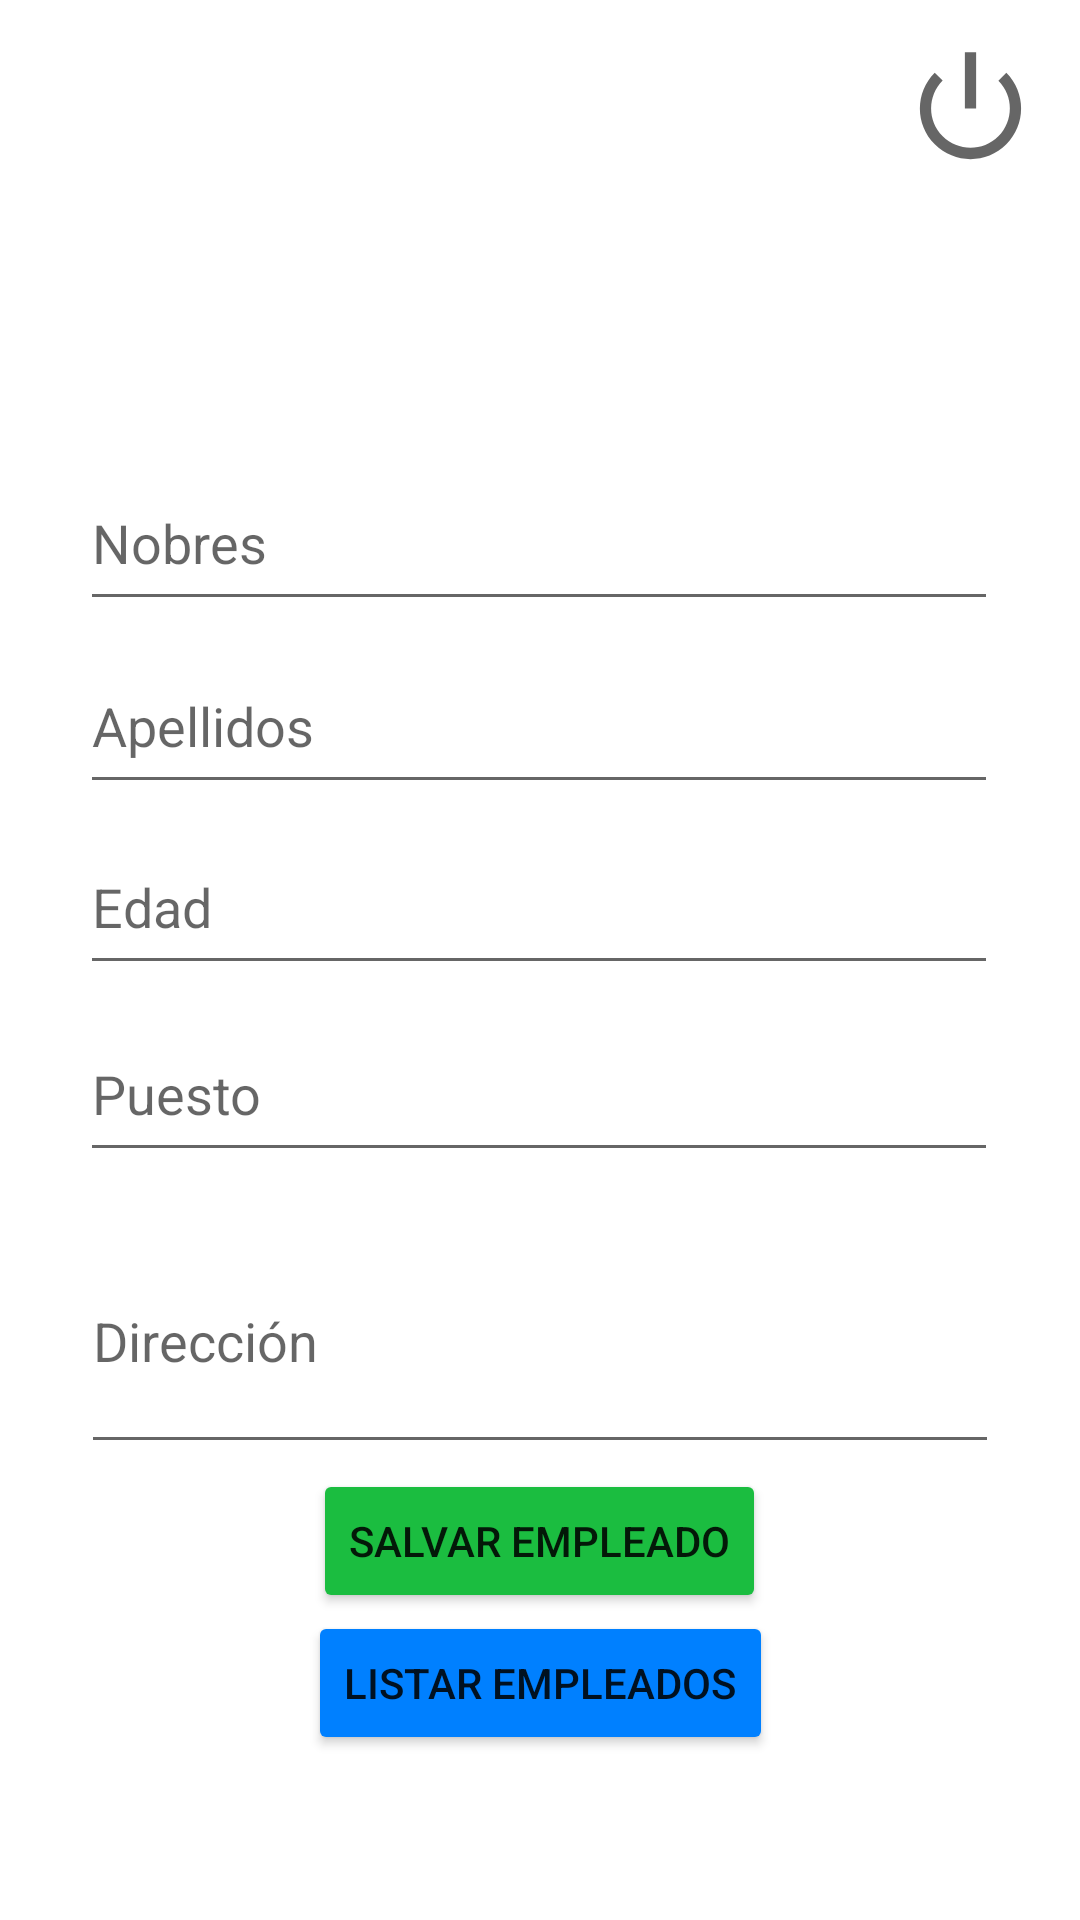

Locate icon controls on the screen. Image size 1080px×1920px, boxes as (x1,y1,x2,y2).
lock power off: (920,52,1021,160)
